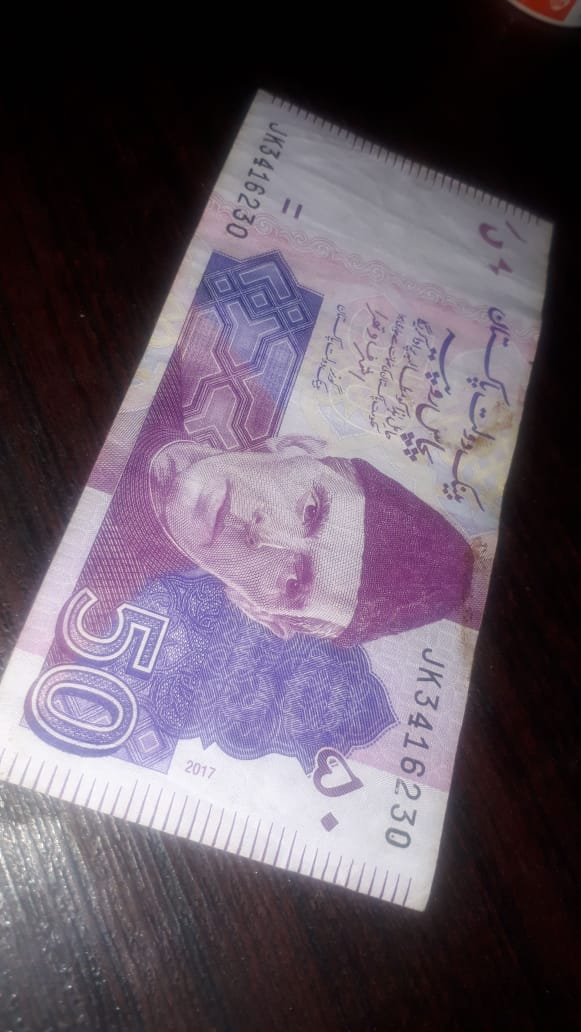50 rupee: (34, 75, 536, 951)
